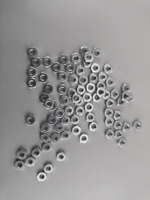nut: (27, 47, 39, 58), (38, 73, 50, 84), (43, 84, 54, 95), (27, 79, 38, 89), (27, 67, 37, 78), (31, 58, 42, 68), (52, 63, 63, 73), (66, 63, 76, 74), (39, 94, 50, 104), (71, 53, 81, 64), (76, 65, 86, 76), (79, 47, 90, 57), (84, 52, 94, 63), (68, 75, 79, 85), (25, 116, 36, 126), (44, 99, 54, 110), (46, 115, 57, 125), (61, 116, 71, 127), (42, 143, 53, 153), (37, 171, 47, 182), (78, 75, 88, 86), (59, 55, 69, 65), (58, 72, 68, 82), (58, 85, 68, 95), (60, 96, 70, 106), (40, 124, 50, 134), (55, 109, 65, 119), (14, 161, 24, 171), (32, 148, 42, 158), (40, 133, 50, 143), (50, 134, 60, 144), (56, 152, 66, 162), (44, 164, 54, 174), (79, 134, 89, 144), (89, 122, 99, 132), (118, 138, 128, 148), (83, 93, 93, 103), (67, 89, 77, 99), (133, 121, 143, 131), (86, 113, 96, 123), (103, 64, 113, 74), (91, 63, 101, 73), (89, 74, 99, 84), (106, 78, 116, 88), (106, 99, 116, 109), (43, 57, 52, 68), (17, 150, 26, 161), (93, 92, 102, 103), (111, 89, 120, 100), (93, 49, 102, 59), (49, 101, 58, 111), (85, 103, 94, 113), (26, 157, 35, 167), (61, 131, 70, 141), (72, 126, 81, 136), (71, 115, 80, 125), (65, 106, 74, 116), (76, 106, 85, 116), (72, 94, 81, 104), (104, 109, 114, 118), (87, 83, 96, 93), (77, 85, 86, 95), (97, 87, 106, 97), (99, 72, 108, 82), (122, 84, 131, 94), (106, 130, 115, 139), (105, 118, 114, 127), (114, 121, 123, 130), (115, 131, 124, 140), (123, 123, 132, 132), (114, 111, 123, 120), (122, 92, 131, 101), (125, 95, 134, 104), (103, 90, 111, 100), (118, 97, 126, 107), (75, 98, 84, 106), (83, 61, 93, 68), (97, 83, 106, 90)
